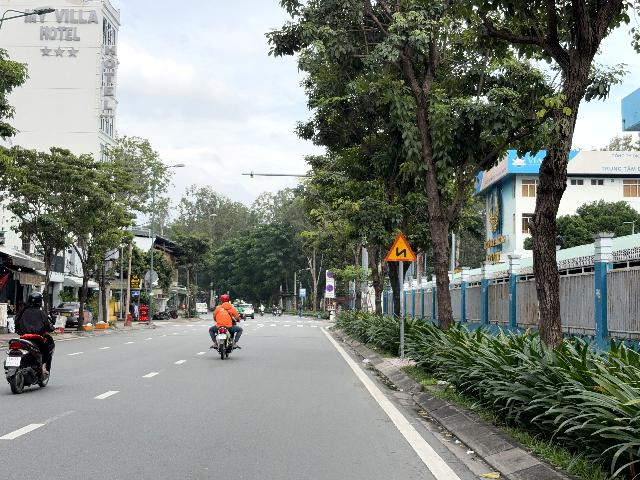nhieu-cho-ngoat-nguy-hiem-lien-tiep: (384, 232, 417, 261)
